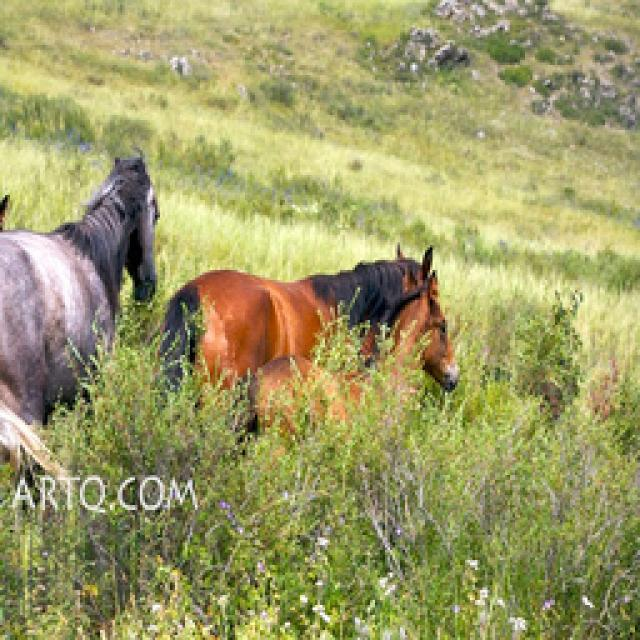not_pig: (152, 242, 440, 450), (0, 148, 160, 518), (237, 273, 464, 438)
